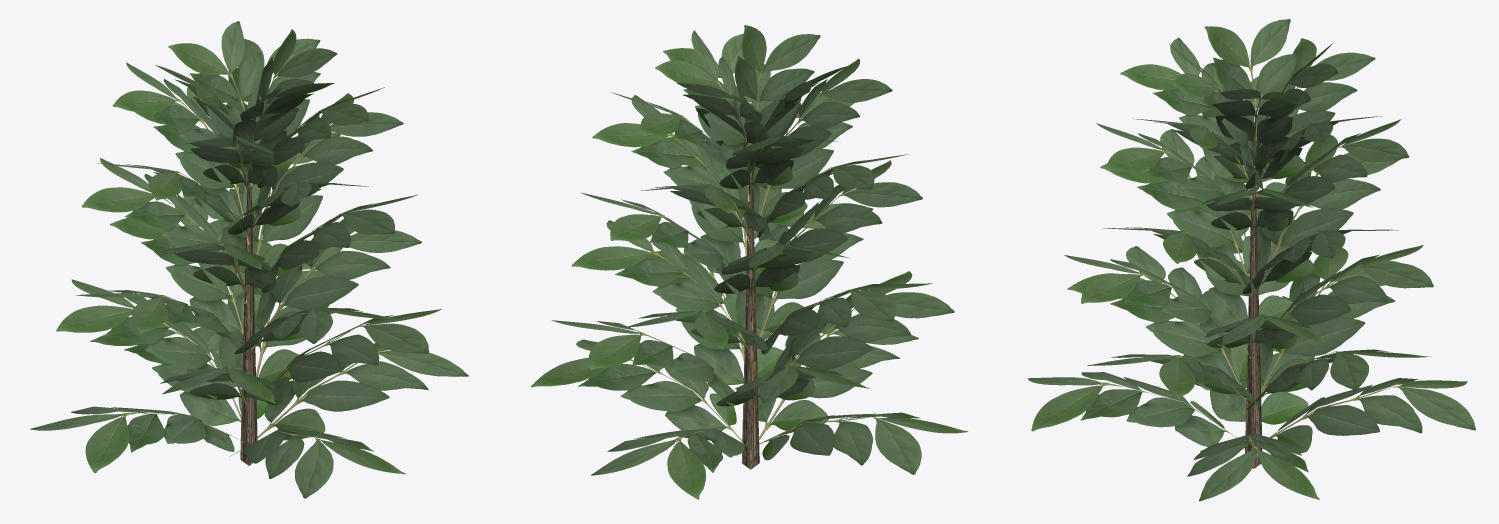
Rendered from plant6.FBX.
3 renders of one model, left to right at view 1: azimuth 30°, elevation 25°; view 2: azimuth 150°, elevation 25°; view 3: azimuth 270°, elevation 25°, orthographic.
Parts seen in each view (by area): view 1: Cylinder001; view 2: Cylinder001; view 3: Cylinder001.
Part boxes in pixels (box(x1,y1,x2,y2)): Cylinder001: box(30, 21, 468, 498); Cylinder001: box(531, 25, 967, 499); Cylinder001: box(1028, 19, 1475, 501).
Bounding box in the file's own units: 1.51 × 1.48 × 1.51.
